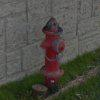Hydrant: (31, 11, 83, 97)
